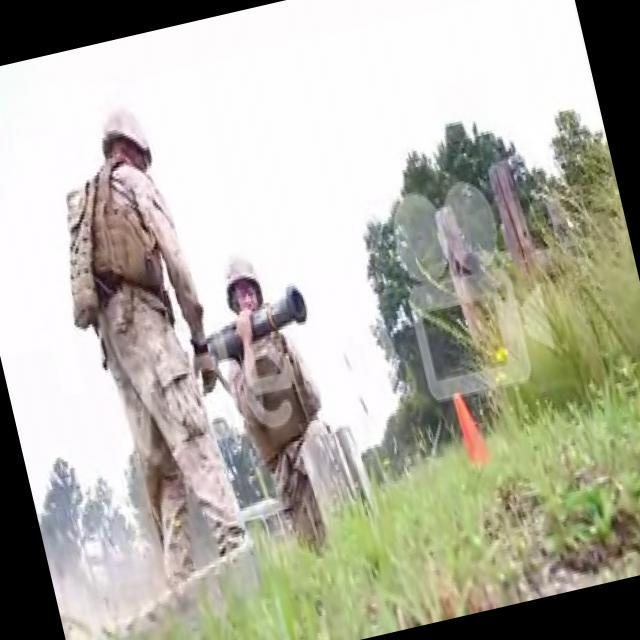rocket: (184, 280, 316, 364)
